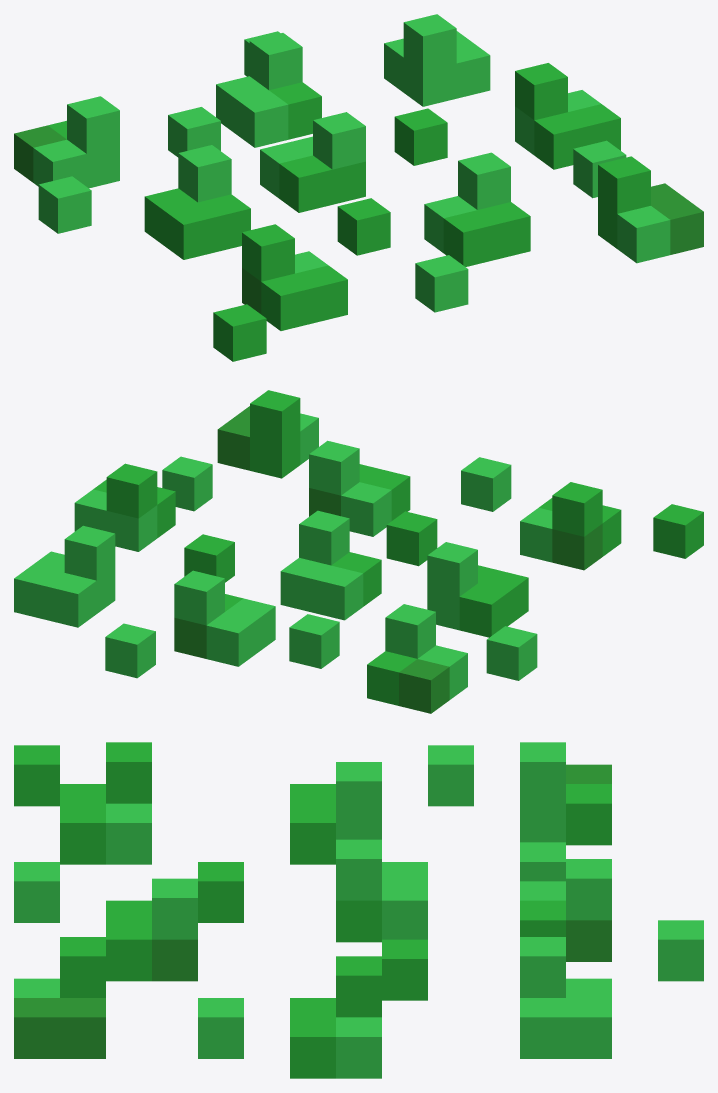
Rendered from grassblockye-3.obj.
3 views of the same model, one above another, from view 1: azimuth 30°, elevation 25°; view 2: azimuth 150°, elevation 25°; view 3: azimuth 270°, elevation 25° (orthographic). The views are drawn at different scales.
Bounding box in the file's own units: 1.5 × 0.2 × 1.5.
1 material, 1 textured.
